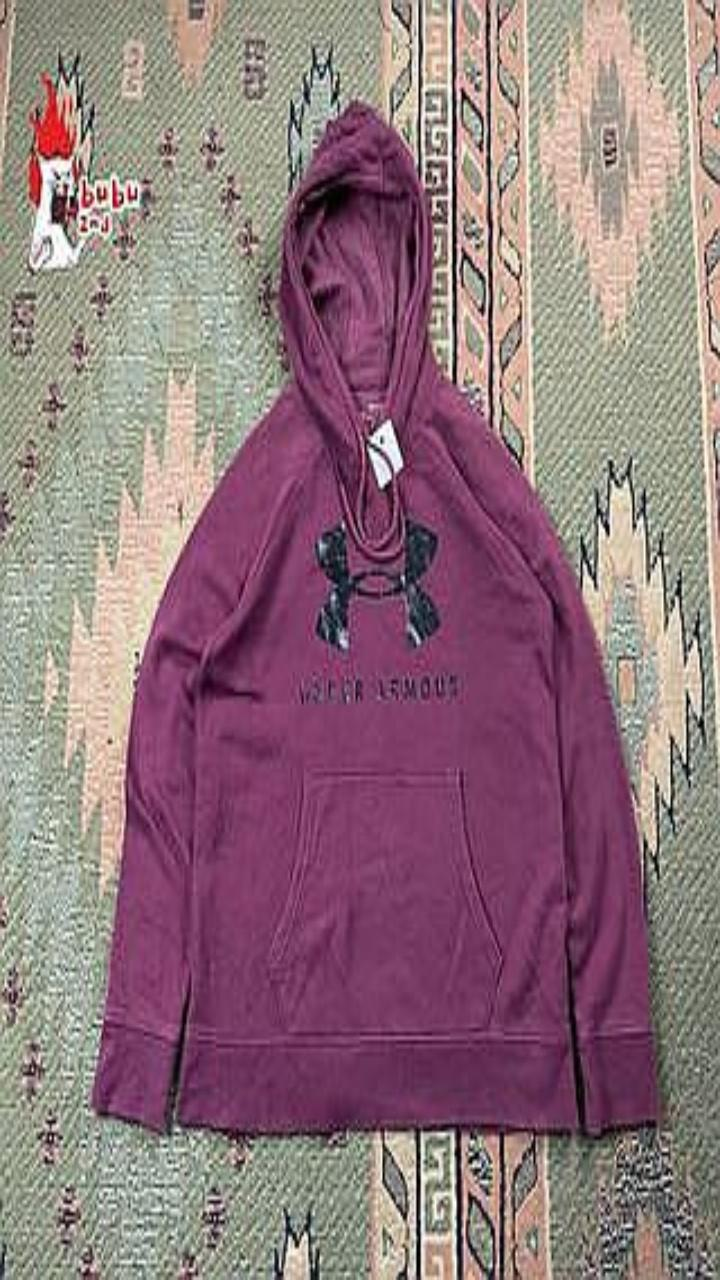Hoodie: (92, 100, 658, 1133)
